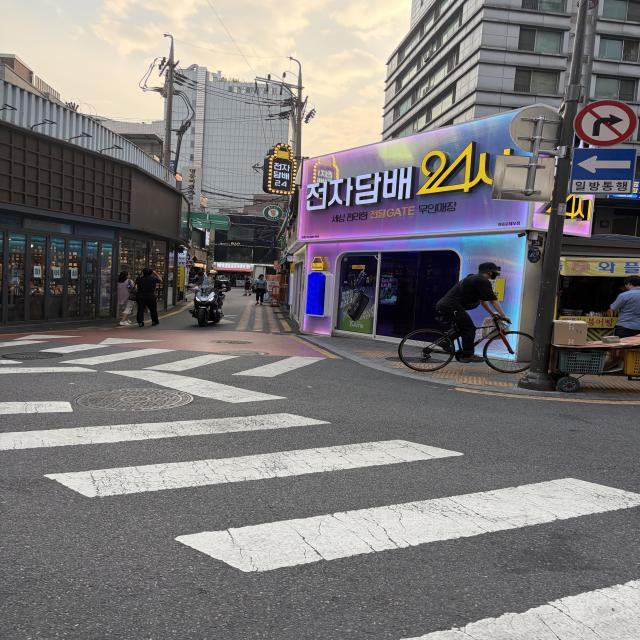bicycle: (380, 239, 568, 390)
motorcycle: (176, 258, 238, 341)
